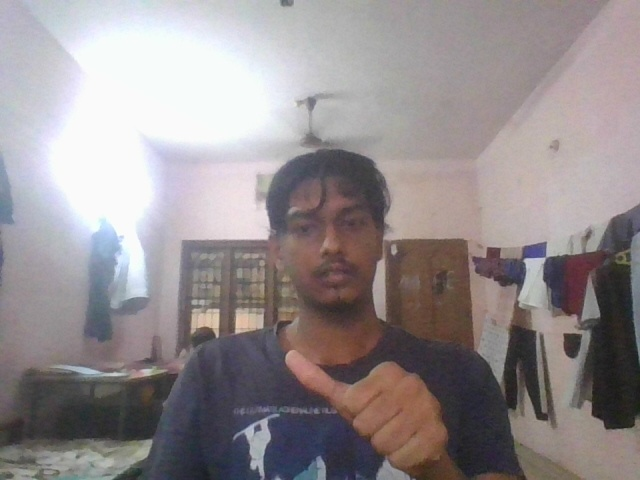thumbsup: (278, 343, 466, 480)
